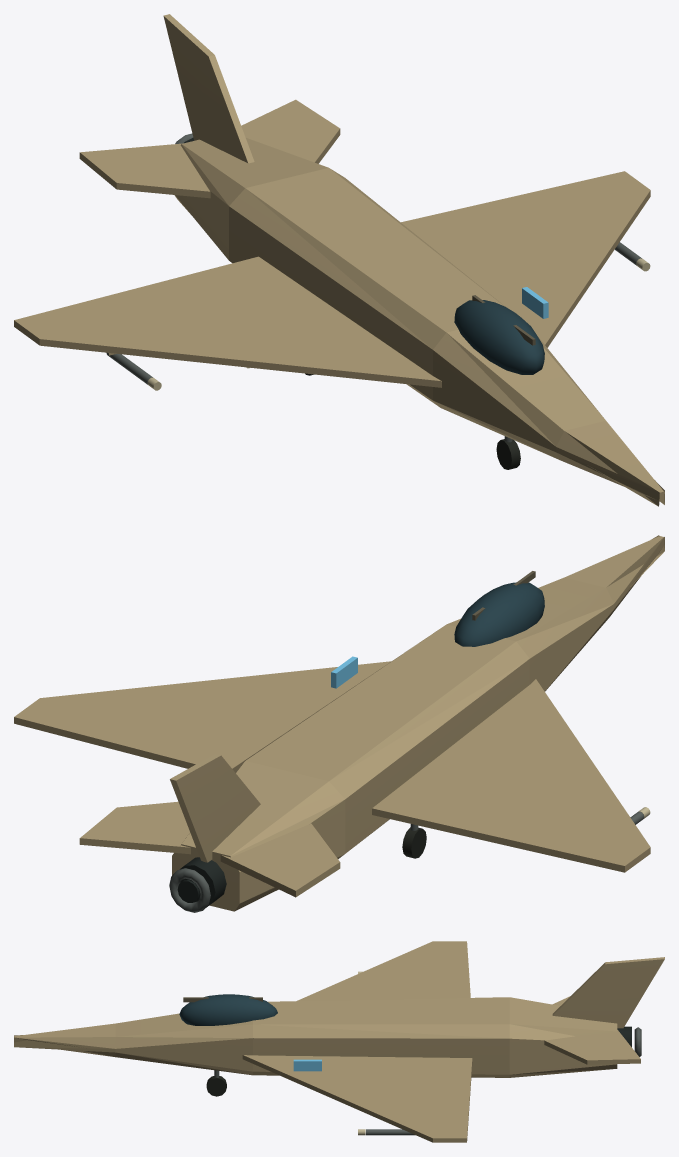
The model's file is bomber.glb.
The picture shows the model from 3 angles, top to bottom: view 1: azimuth 30°, elevation 25°; view 2: azimuth 150°, elevation 25°; view 3: azimuth 270°, elevation 25°; orthographic projection. The views are drawn at different scales.
Parts seen in each view (by area): view 1: armor, glass, equipment; view 2: armor, glass, equipment (×2); view 3: armor, glass, equipment (×2), marking.
Part boxes in pixels (left/top/right/bottom): armor: left=14, top=14, right=664, bottom=506; glass: left=454, top=300, right=544, bottom=374; equipment: left=106, top=133, right=650, bottom=390; armor: left=14, top=535, right=664, bottom=911; glass: left=454, top=582, right=544, bottom=646; equipment (×2): left=169, top=571, right=650, bottom=912; armor: left=14, top=941, right=664, bottom=1142; glass: left=179, top=994, right=277, bottom=1025; equipment (×2): left=183, top=971, right=641, bottom=1135; marking: left=293, top=1059, right=321, bottom=1071.
Size of the model in its own units: 8.2 by 2.64 by 11.45.
